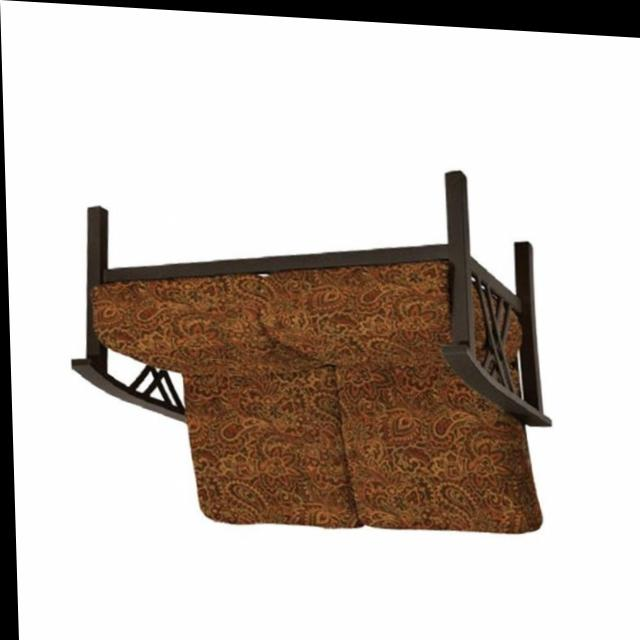Sofa: (62, 148, 553, 538)
